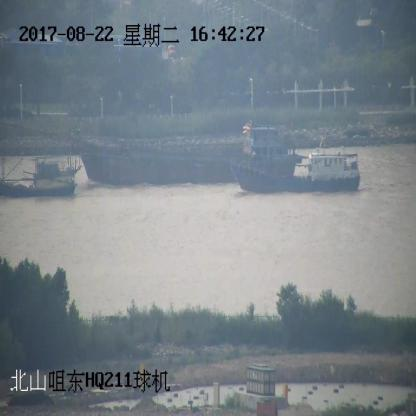Fishing Boat: (233, 146, 360, 194), (0, 156, 81, 199)
